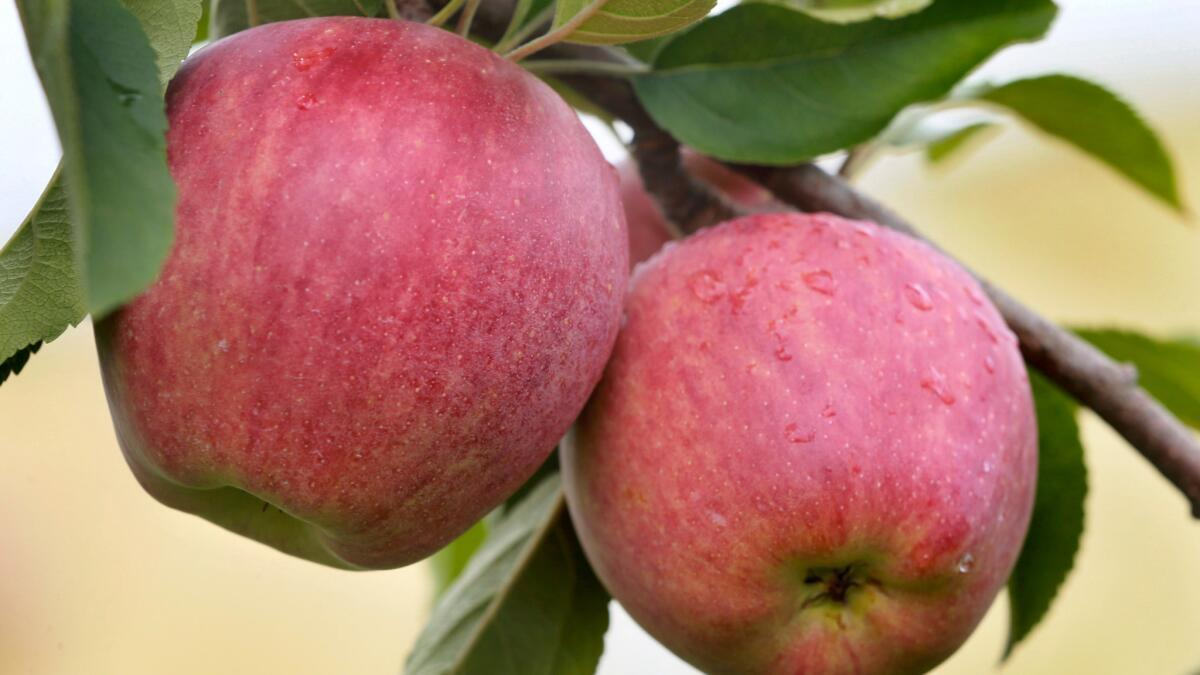apple: (87, 13, 625, 556), (595, 192, 1022, 675)
